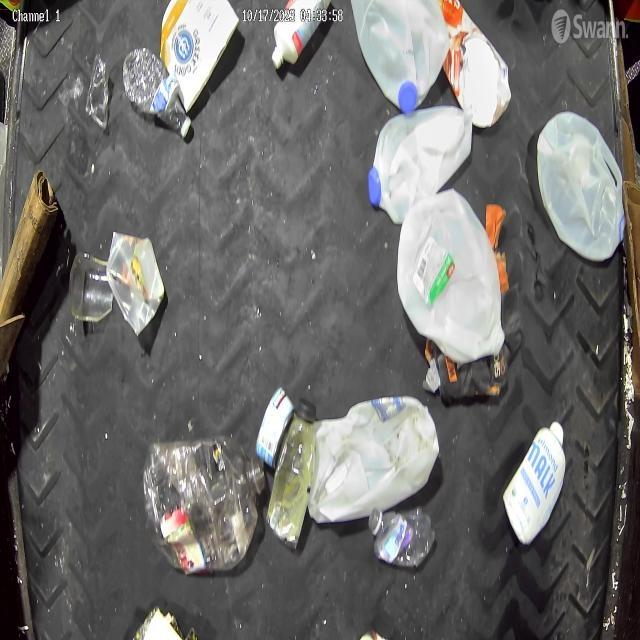milk_jug: (397, 188, 506, 362), (305, 397, 438, 524), (535, 112, 627, 262), (368, 101, 474, 222), (346, 0, 452, 114)
plastic_bottle: (268, 394, 320, 548), (121, 45, 195, 138)
